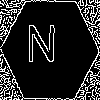N: (25, 25, 57, 71)
